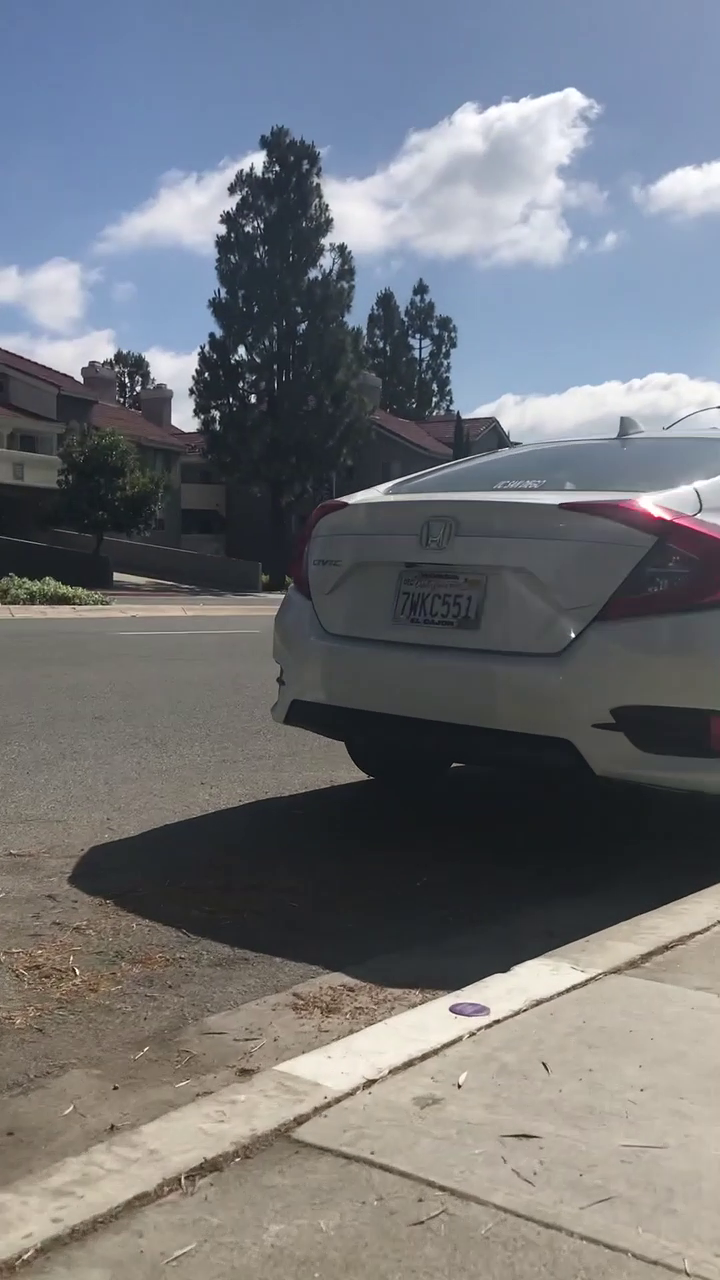car: (274, 422, 718, 813)
